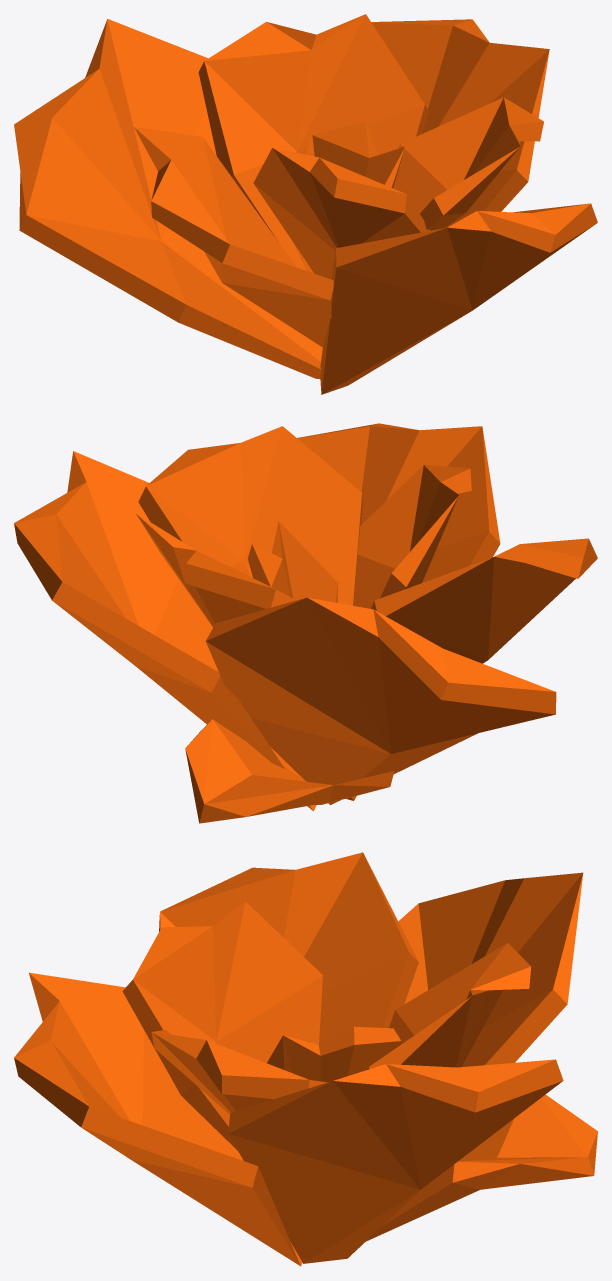
File: salad-mature-a.fbx
The picture shows the model from 3 angles, top to bottom: view 1: azimuth 30°, elevation 25°; view 2: azimuth 150°, elevation 25°; view 3: azimuth 270°, elevation 25°; orthographic projection. The views are drawn at different scales.
Parts seen in each view (by area): view 1: salad-mature-a; view 2: salad-mature-a; view 3: salad-mature-a.
Part boxes in pixels (bbox=[...]): salad-mature-a: bbox=[14, 14, 597, 394]; salad-mature-a: bbox=[14, 423, 597, 823]; salad-mature-a: bbox=[14, 852, 597, 1266].
Size of the model in its own units: 474 by 281 by 445.
